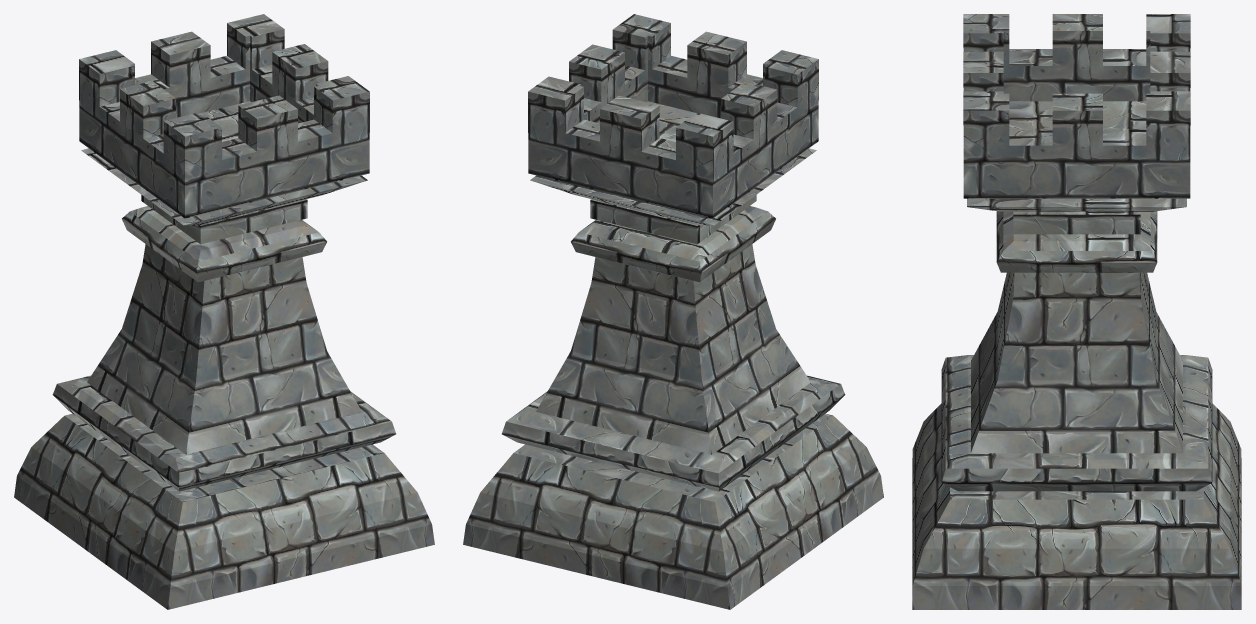
File: Base Rook.obj
The picture shows the model from 3 angles, left to right: view 1: azimuth 30°, elevation 25°; view 2: azimuth 150°, elevation 25°; view 3: azimuth 270°, elevation 25°; orthographic projection. The views are drawn at different scales.
Visible parts, largest first — view 1: [MESH]_Rook_Cube; view 2: [MESH]_Rook_Cube; view 3: [MESH]_Rook_Cube.
Boxes of the visible parts, x1,y1,x2,y2 form: [MESH]_Rook_Cube: [14, 14, 434, 609]; [MESH]_Rook_Cube: [463, 14, 883, 609]; [MESH]_Rook_Cube: [912, 14, 1241, 609].
Bounding box in the file's own units: 1.4 × 2.23 × 1.39.
